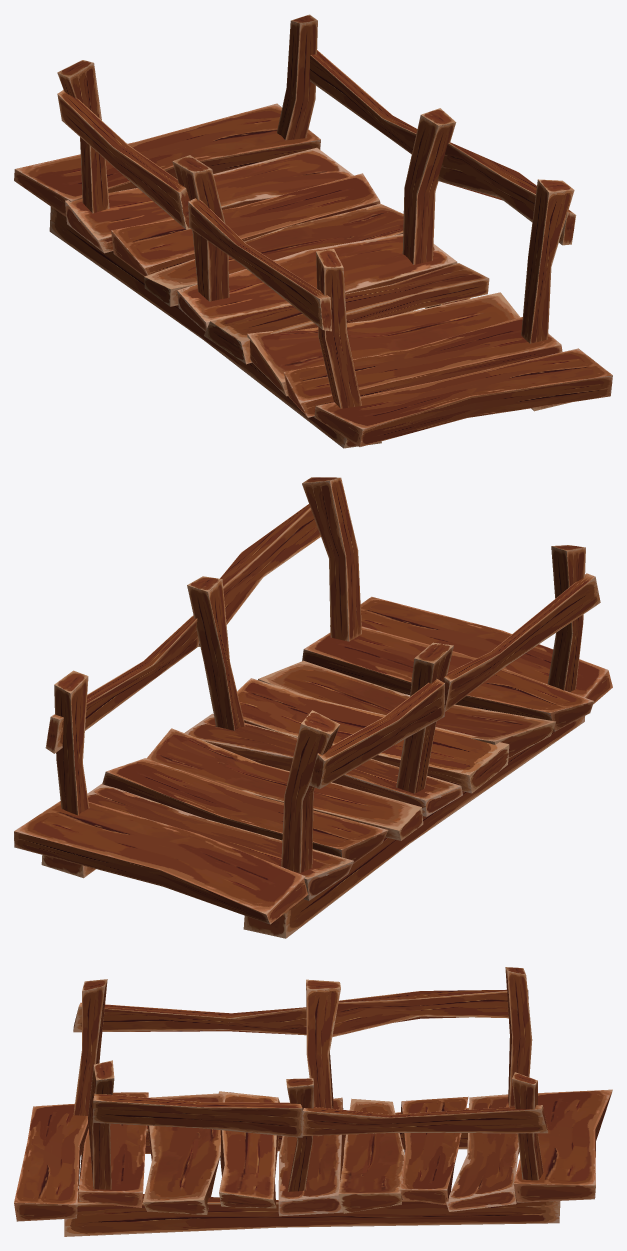
Rendered from Bridge.fbx.
3 renders of one model, top to bottom at view 1: azimuth 30°, elevation 25°; view 2: azimuth 150°, elevation 25°; view 3: azimuth 270°, elevation 25°, orthographic. The views are drawn at different scales.
Visible parts, largest first — view 1: SM_PROP_bridge_wood_02; view 2: SM_PROP_bridge_wood_02; view 3: SM_PROP_bridge_wood_02.
Part boxes in pixels (box(x1,y1,x2,y2)): SM_PROP_bridge_wood_02: box(14, 14, 612, 448); SM_PROP_bridge_wood_02: box(14, 477, 612, 938); SM_PROP_bridge_wood_02: box(14, 967, 612, 1236).
Bounding box in the file's own units: 236 × 166 × 513.
